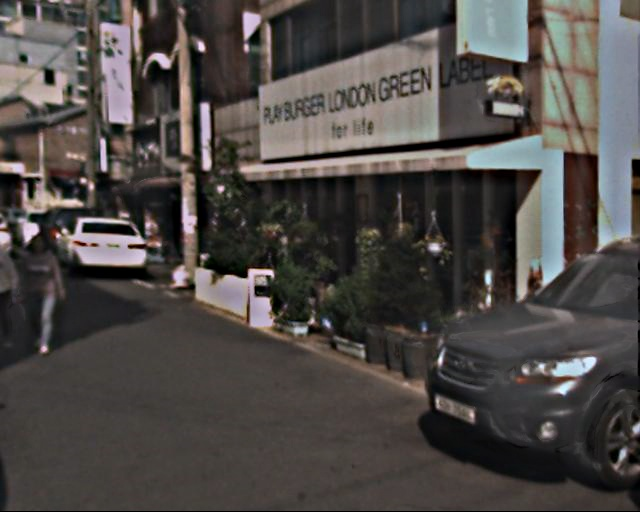person: (18, 226, 72, 357)
